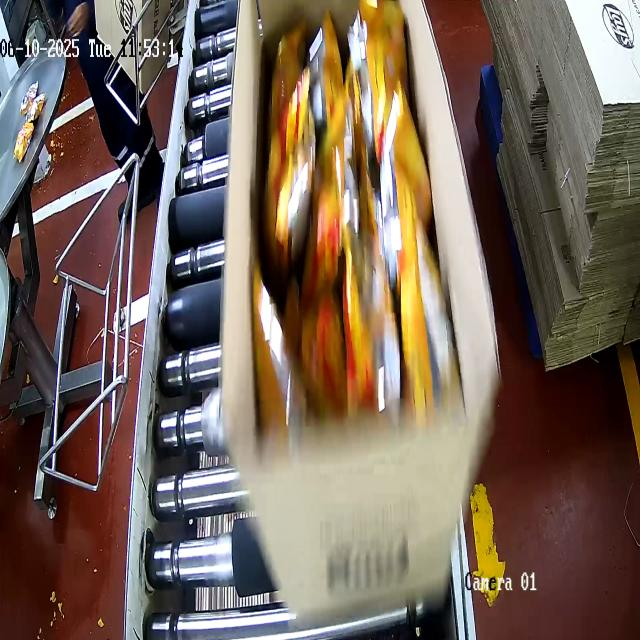FRENCH_CHEESE: (258, 0, 431, 428)
